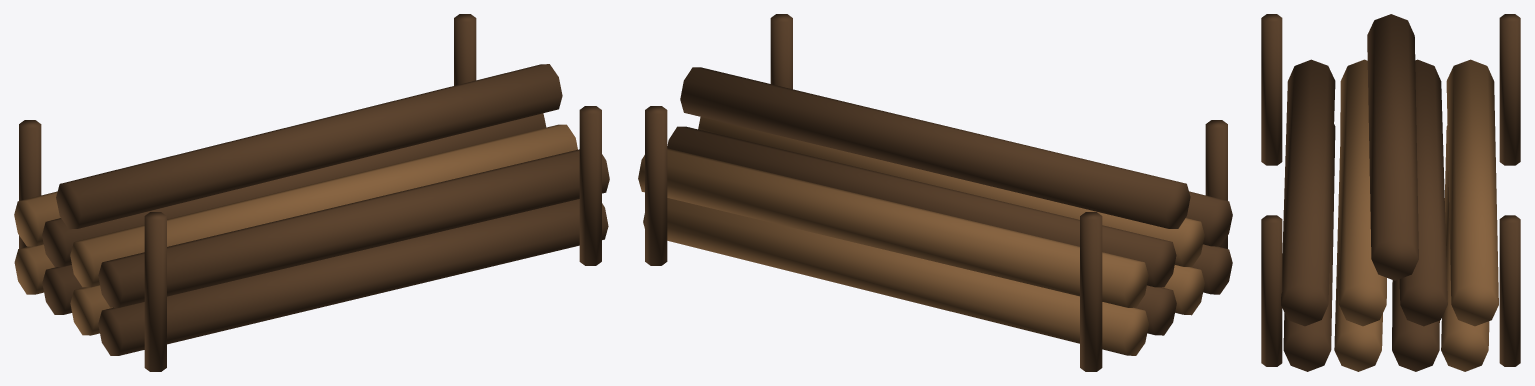
Rendered from grubenholz.glb.
3 renders of one model, left to right at view 1: azimuth 30°, elevation 25°; view 2: azimuth 150°, elevation 25°; view 3: azimuth 270°, elevation 25°, orthographic. The views are drawn at different scales.
Visible parts, largest first — view 1: Cone; view 2: Cone; view 3: Cone.
Boxes of the visible parts, bbox=[...] form: Cone: bbox=[14, 14, 609, 371]; Cone: bbox=[638, 14, 1232, 371]; Cone: bbox=[1261, 14, 1520, 371].
Bounding box in the file's own units: 2 × 0.6 × 0.98.
